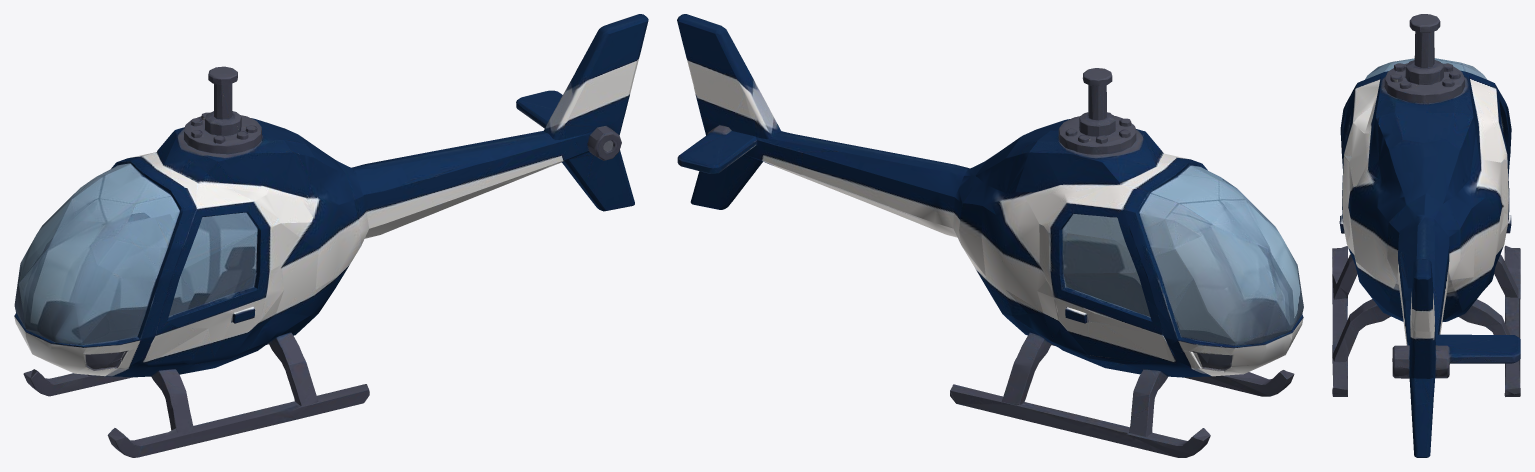
Rendered from helicoptero.glb.
3 views of the same model, side by side, from view 1: azimuth 30°, elevation 25°; view 2: azimuth 150°, elevation 25°; view 3: azimuth 270°, elevation 25° (orthographic). The views are drawn at different scales.
Size of the model in its own units: 1.9 by 0.9456 by 0.4904.
1 material, 1 textured.
